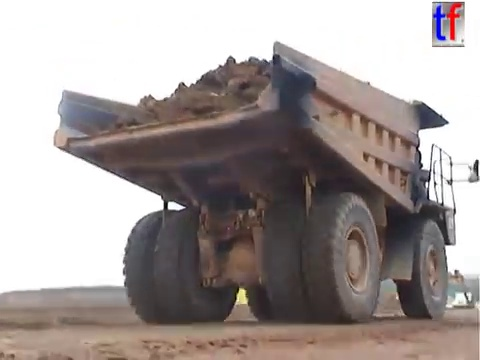excavator: (381, 267, 477, 310)
truck: (50, 38, 479, 329)
